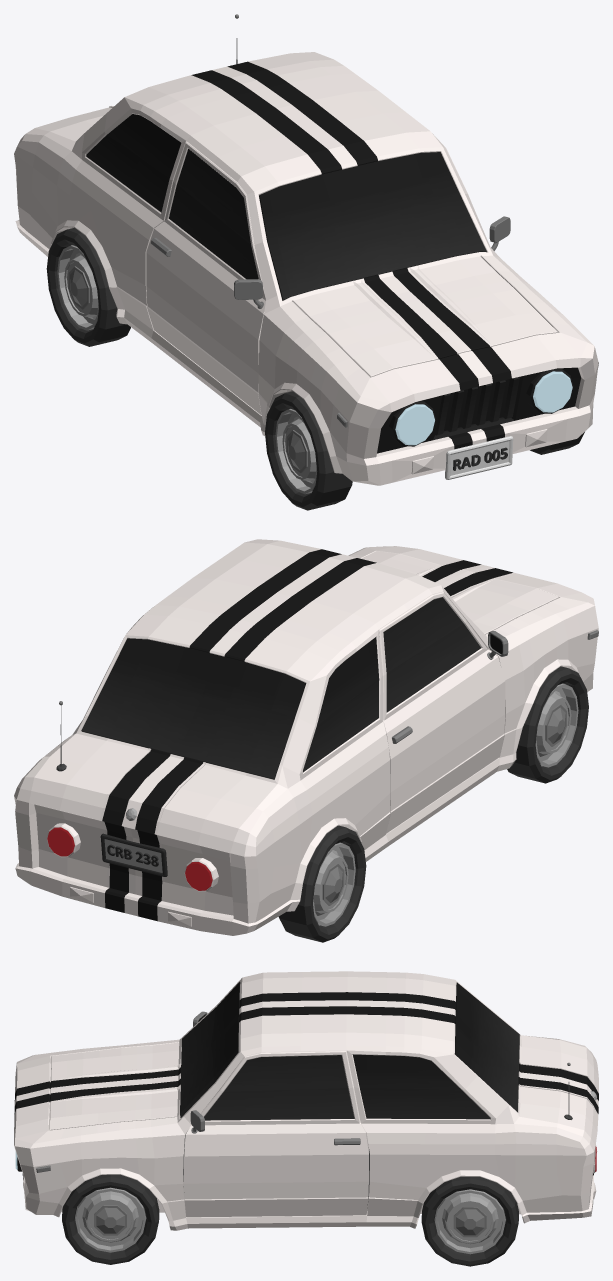
The model's file is car_5.glb.
3 views of the same model, one above another, from view 1: azimuth 30°, elevation 25°; view 2: azimuth 150°, elevation 25°; view 3: azimuth 270°, elevation 25° (orthographic). The views are drawn at different scales.
Visible parts, largest first — view 1: Plane.028, Plane.031, Plane.029, Circle.036, Circle.035, Circle.038, Plane.023, RAAB005, Plane.024; view 2: Plane.028, Plane.029, Plane.026, Circle.035, Circle.036, Circle.040, Plane.027; view 3: Plane.028, Plane.029, Circle.050, Circle.037, Plane.026, Plane.031.
Boxes of the visible parts, box(x1,y1,x2,y2) form: Plane.028: box(14, 52, 598, 485); Plane.031: box(259, 152, 486, 300); Plane.029: box(146, 139, 470, 414); Circle.036: box(265, 391, 352, 510); Circle.035: box(46, 227, 130, 346); Circle.038: box(388, 368, 573, 446); Plane.023: box(435, 377, 519, 435); RAAB005: box(445, 436, 513, 479); Plane.024: box(234, 216, 510, 308); Plane.028: box(14, 539, 598, 935); Plane.029: box(379, 591, 505, 833); Plane.026: box(81, 638, 306, 779); Circle.035: box(278, 825, 366, 942); Circle.036: box(507, 666, 588, 783); Circle.040: box(47, 823, 218, 891); Plane.027: box(100, 833, 167, 876); Plane.028: box(14, 971, 598, 1230); Plane.029: box(183, 1050, 368, 1217); Circle.050: box(421, 1176, 518, 1266); Circle.037: box(62, 1174, 159, 1264); Plane.026: box(454, 982, 519, 1112); Plane.031: box(180, 982, 240, 1118).
Size of the model in its own units: 1.11 by 1 by 2.51.
5 materials, 4 textured.
